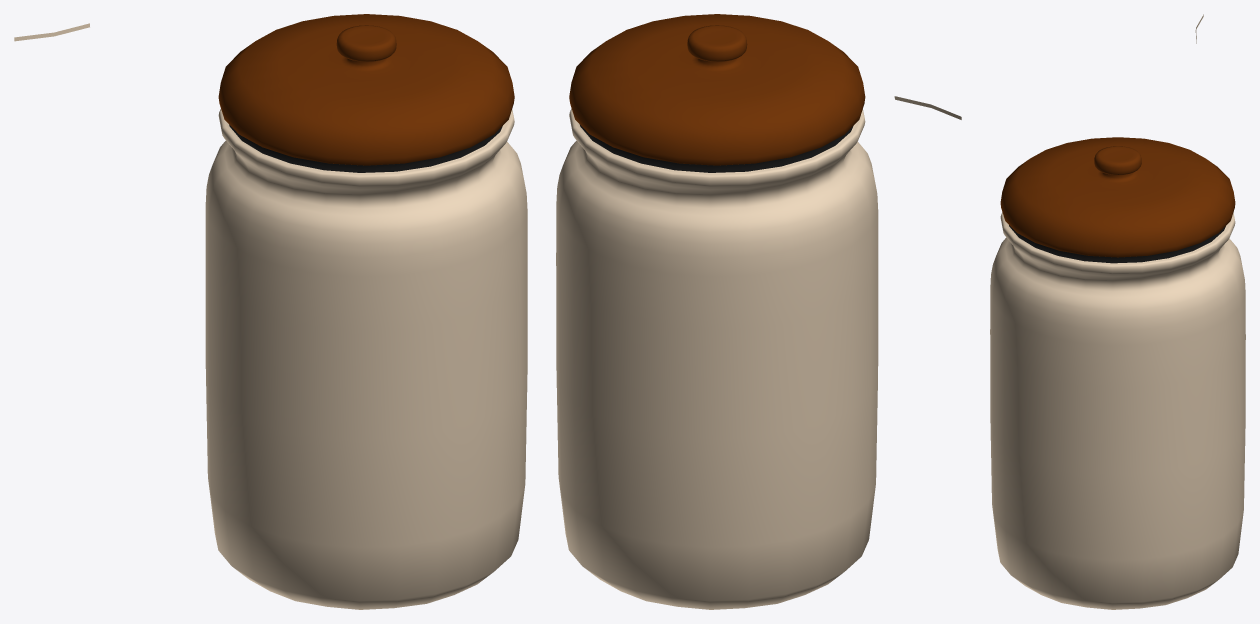
Rendered from JarMedium_Final.fbx.
The picture shows the model from 3 angles, left to right: view 1: azimuth 30°, elevation 25°; view 2: azimuth 150°, elevation 25°; view 3: azimuth 270°, elevation 25°; orthographic projection. The views are drawn at different scales.
Visible parts, largest first — view 1: Jar_.002; view 2: Jar_.002; view 3: Jar_.002.
Part boxes in pixels (left/top/right/bottom): Jar_.002: left=14, top=14, right=527, bottom=609; Jar_.002: left=556, top=14, right=961, bottom=609; Jar_.002: left=990, top=14, right=1245, bottom=609.
Bounding box in the file's own units: 174 × 210 × 111.
